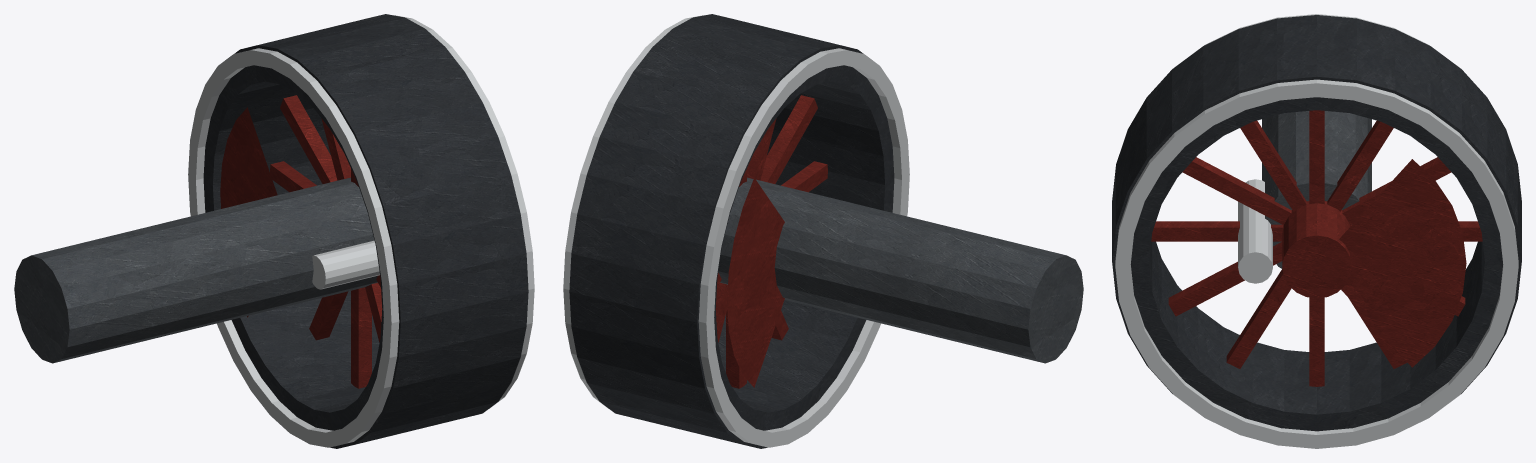
Rendered from train_wheel_small.gltf.
3 views of the same model, side by side, from view 1: azimuth 30°, elevation 25°; view 2: azimuth 150°, elevation 25°; view 3: azimuth 270°, elevation 25° (orthographic).
Size of the model in its own units: 0.618 by 0.56 by 0.56.
Materials: 4 (3 with a texture image).
